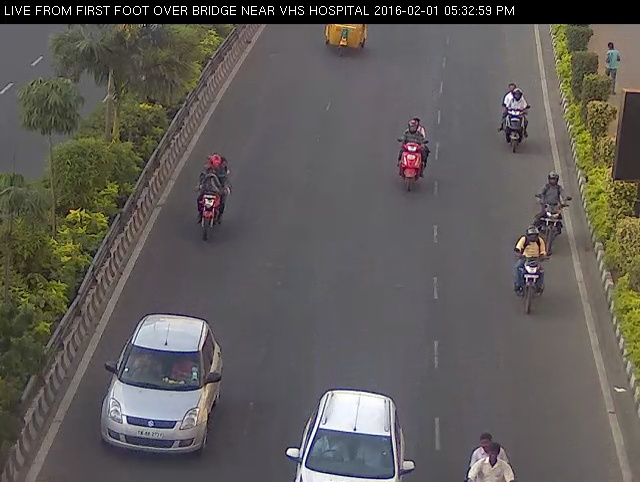Auto: (312, 18, 379, 63)
Car: (100, 304, 224, 467), (274, 371, 417, 481)
Person: (498, 218, 556, 325), (187, 143, 239, 255), (390, 109, 441, 199), (530, 164, 576, 259), (456, 416, 522, 481), (496, 78, 535, 159)
